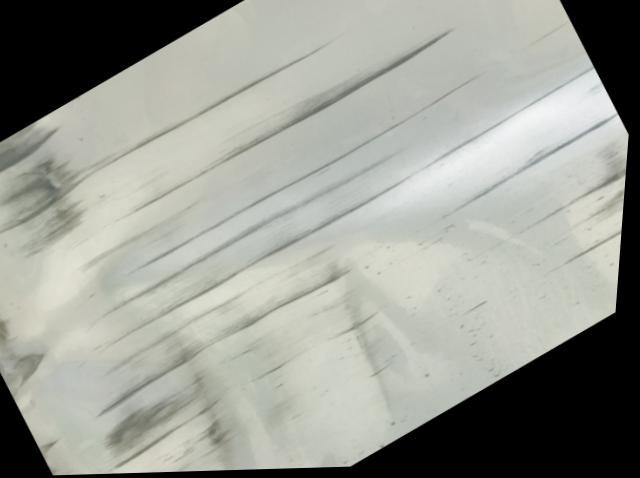dent: (0, 35, 627, 476)
scratch: (125, 27, 467, 186), (451, 130, 631, 298)
